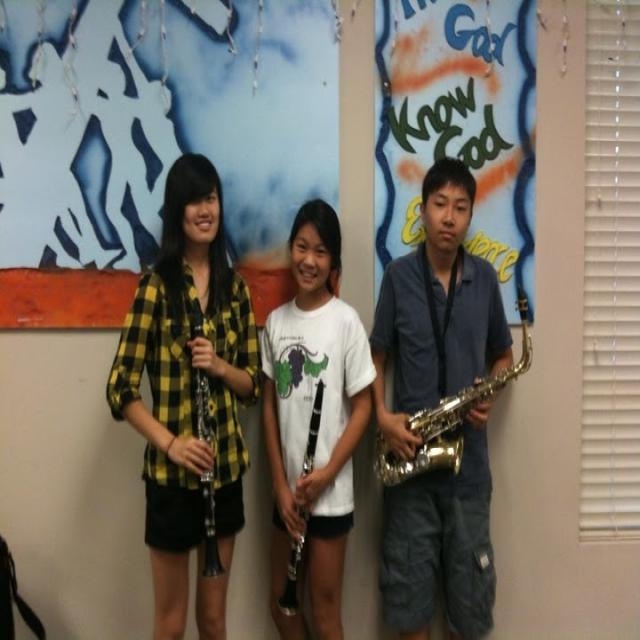clarinet: (277, 379, 326, 627), (186, 294, 223, 547)
saxophone: (370, 284, 536, 493)
